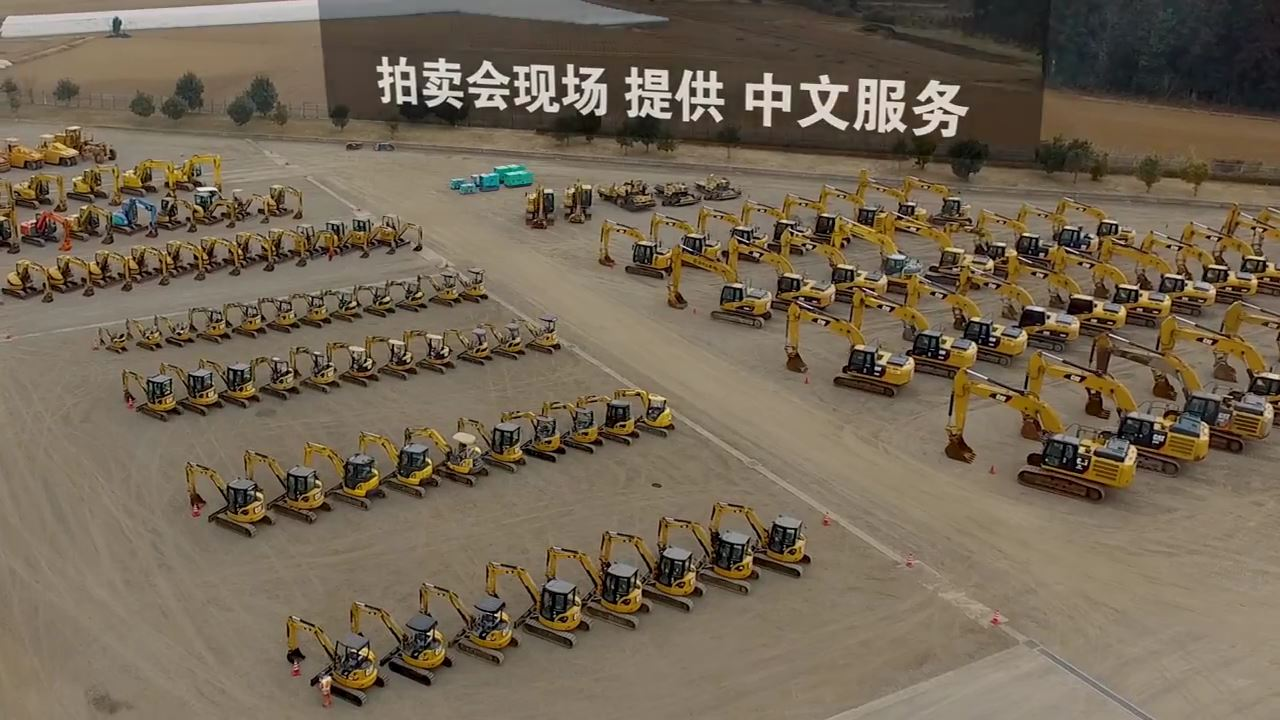con_eq: (937, 360, 1133, 519), (1029, 351, 1192, 473), (780, 291, 909, 411), (1097, 334, 1220, 445), (851, 282, 983, 383), (278, 602, 386, 712), (541, 537, 657, 637), (909, 268, 1027, 366), (959, 261, 1080, 354), (658, 245, 777, 330), (597, 525, 708, 616), (1104, 229, 1215, 318), (705, 498, 814, 588), (483, 556, 590, 646), (1059, 245, 1169, 331), (417, 576, 514, 673), (654, 513, 760, 598), (1018, 253, 1125, 333), (828, 215, 936, 293), (351, 595, 447, 679), (185, 457, 279, 542), (722, 241, 829, 315), (874, 204, 970, 274), (798, 233, 884, 301), (158, 356, 231, 430), (585, 220, 675, 277), (732, 193, 814, 254), (105, 362, 181, 421), (1053, 198, 1137, 249), (278, 470, 339, 536), (329, 453, 400, 509), (438, 425, 498, 491), (395, 317, 454, 383), (701, 204, 773, 258), (388, 437, 444, 505), (851, 176, 920, 230), (945, 206, 1007, 265), (239, 352, 301, 411), (190, 364, 266, 412), (637, 373, 689, 443), (895, 174, 978, 217), (647, 210, 711, 261), (329, 333, 385, 391), (1027, 202, 1094, 250), (816, 184, 884, 231), (775, 191, 840, 240), (991, 203, 1050, 255), (164, 151, 232, 196), (355, 336, 421, 379), (585, 178, 659, 216), (283, 349, 338, 399), (221, 180, 274, 229), (437, 325, 492, 371), (563, 398, 609, 451), (376, 211, 427, 258), (6, 257, 62, 299), (87, 247, 135, 296), (335, 210, 379, 262), (385, 272, 434, 318), (188, 185, 237, 231), (184, 303, 235, 347), (507, 321, 564, 360), (200, 231, 245, 280), (221, 290, 263, 342), (600, 396, 644, 445), (486, 417, 525, 472), (680, 169, 746, 201), (123, 240, 169, 284), (285, 221, 329, 267), (234, 229, 277, 276), (350, 274, 391, 323), (252, 290, 298, 333), (110, 159, 157, 201), (483, 319, 528, 361), (108, 200, 157, 238), (561, 179, 598, 226), (289, 289, 333, 328), (267, 227, 306, 271), (428, 259, 463, 308), (274, 176, 314, 217), (58, 255, 101, 293), (64, 165, 107, 203), (522, 186, 559, 230), (44, 126, 88, 163), (453, 258, 486, 306), (165, 239, 202, 281), (8, 136, 45, 174), (653, 182, 701, 211), (152, 314, 191, 348), (322, 287, 358, 323), (69, 201, 100, 242), (527, 416, 557, 458), (10, 173, 46, 208), (98, 323, 142, 347), (157, 193, 186, 227), (325, 218, 349, 258), (28, 211, 54, 247), (138, 333, 166, 353)
